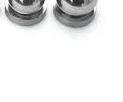ironball: (52, 0, 103, 20), (8, 0, 49, 19)
